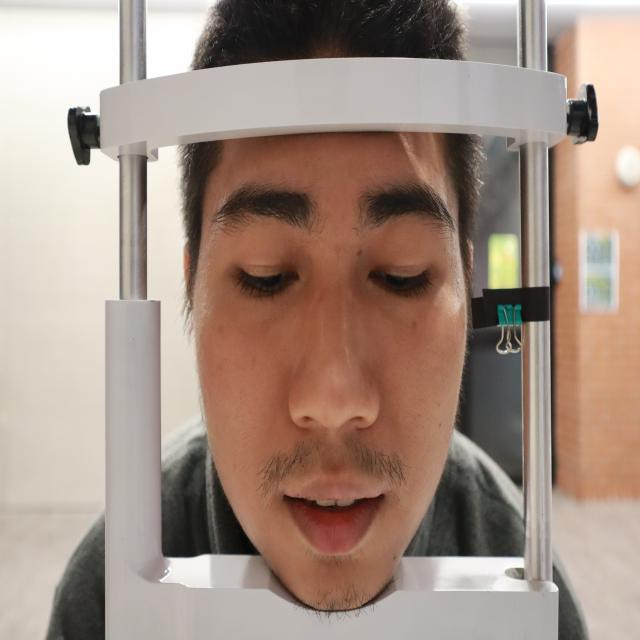eye: (370, 249, 434, 305), (232, 252, 300, 304)
gaze: (259, 266, 283, 291), (384, 268, 408, 292)
